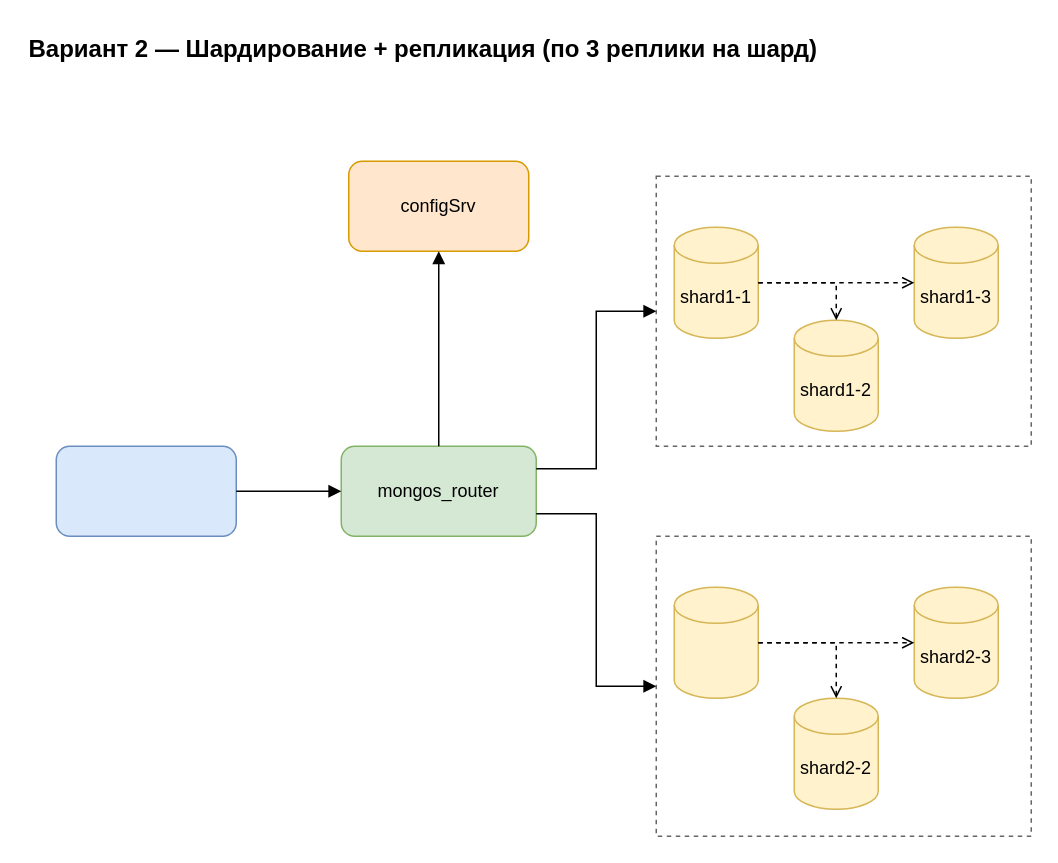
This 1058x863 diagram has some shape labels left out. The shapes that lost their labels are listed below. From the top down, each one's box as (x1, y1, x2, y2) in pixels, then its label:
(655, 175, 1031, 446): Replica Set shard1
(55, 445, 236, 536): pymongo-api
(673, 586, 758, 698): shard2-1
(655, 535, 1031, 836): Replica Set shard2
